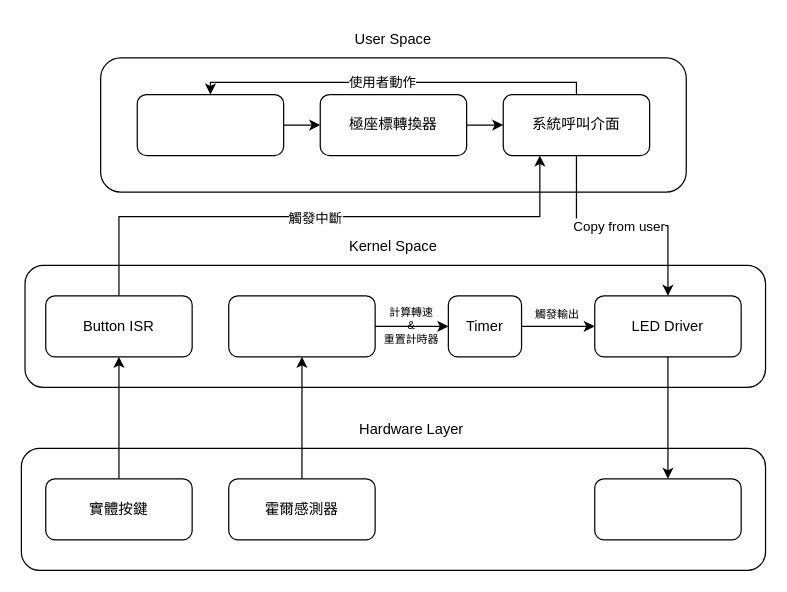
Some shapes in this 787 by 592 pixel diagram are drawn without their labels. Here are the shapes that lost their labels. From the top down, the box of each, then its label:
(136, 93, 284, 156): 遊戲引擎邏輯
(228, 295, 375, 357): Hall Sensor ISR
(594, 478, 741, 540): LED 燈條
